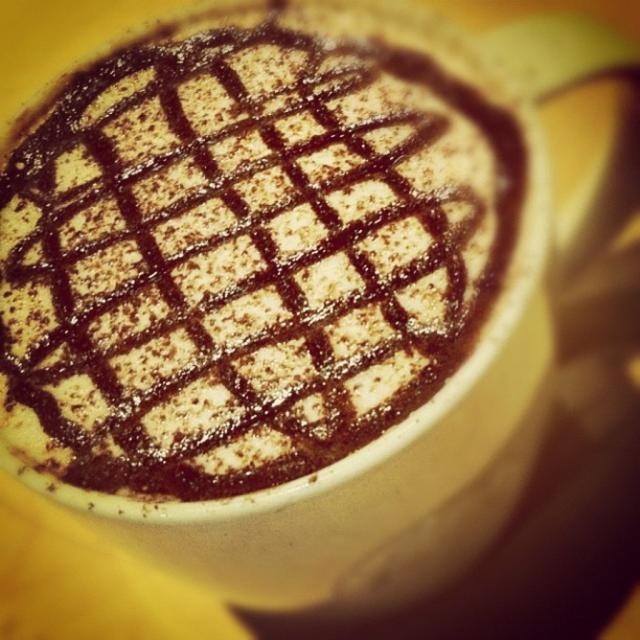Coffee: (0, 1, 612, 623)
